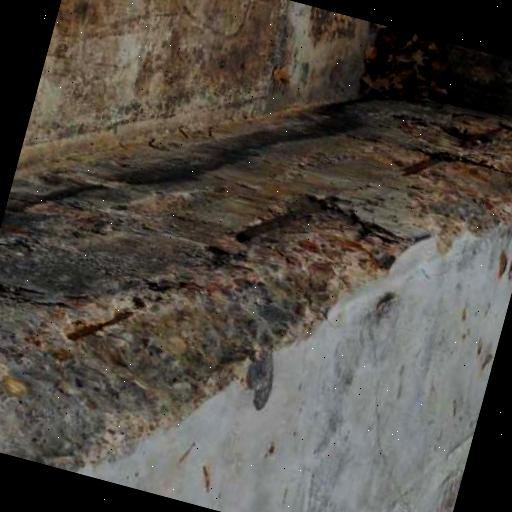spalling: (0, 192, 404, 466), (386, 112, 512, 249)
